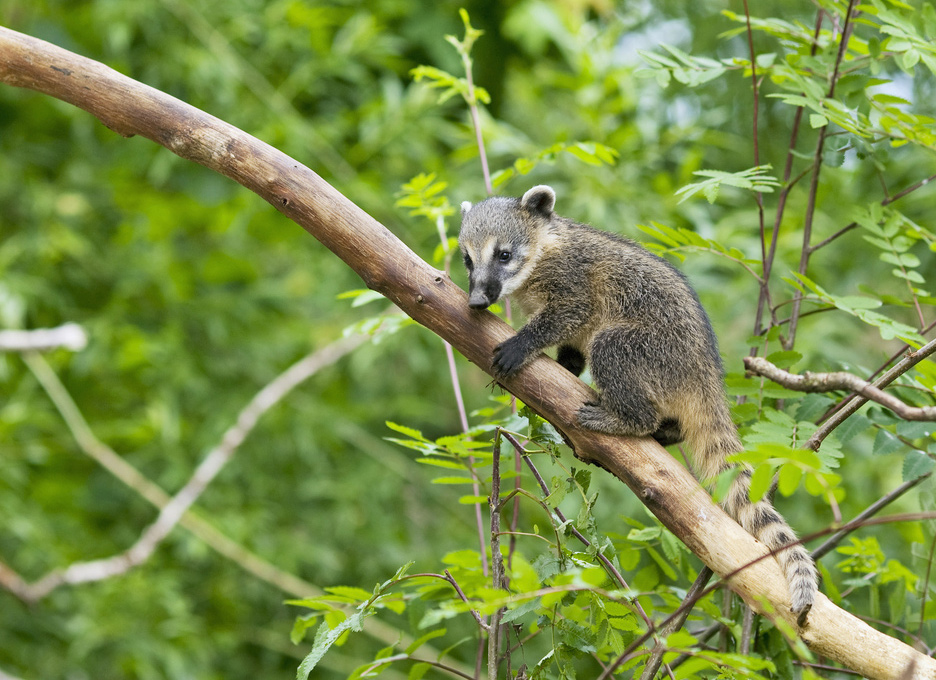raccoon: (448, 185, 847, 634)
